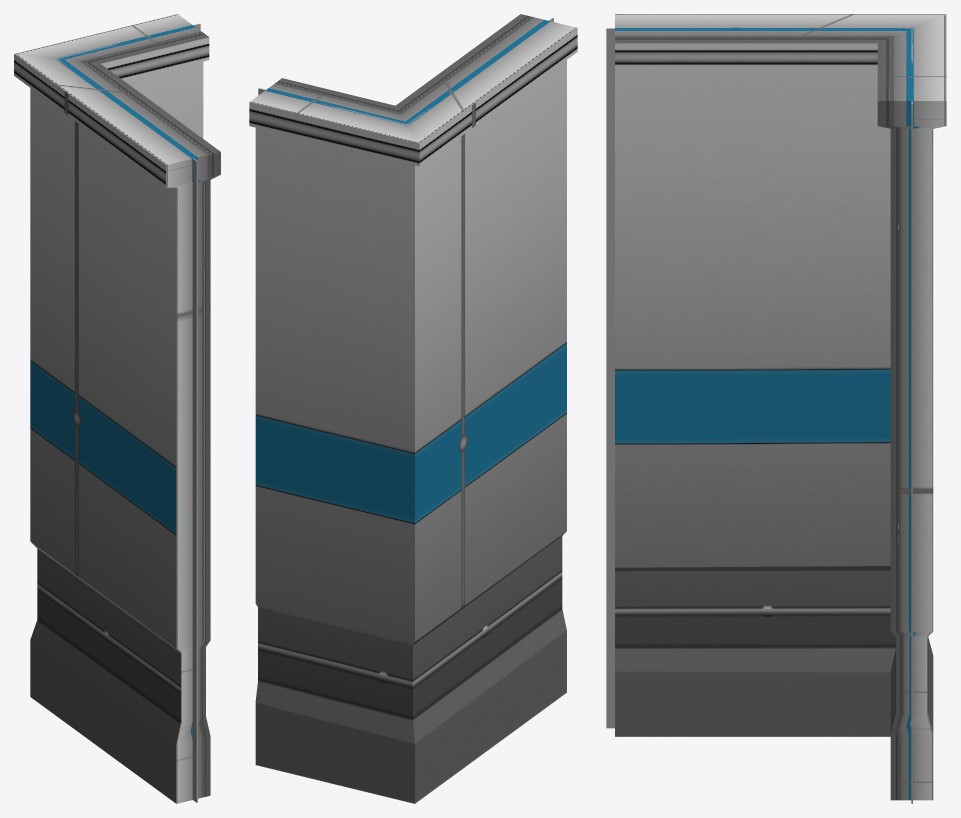
Rendered from CRR_LM_LU_BB.fbx.
The picture shows the model from 3 angles, left to right: view 1: azimuth 30°, elevation 25°; view 2: azimuth 150°, elevation 25°; view 3: azimuth 270°, elevation 25°; orthographic projection. The views are drawn at different scales.
Visible parts, largest first — view 1: CRR_LM_LU_BB; view 2: CRR_LM_LU_BB; view 3: CRR_LM_LU_BB.
Boxes of the visible parts, x1,y1,x2,y2 form: CRR_LM_LU_BB: [14, 14, 220, 803]; CRR_LM_LU_BB: [249, 14, 577, 803]; CRR_LM_LU_BB: [606, 14, 946, 803].
Bounding box in the file's own units: 1.25 × 4.5 × 1.98.
